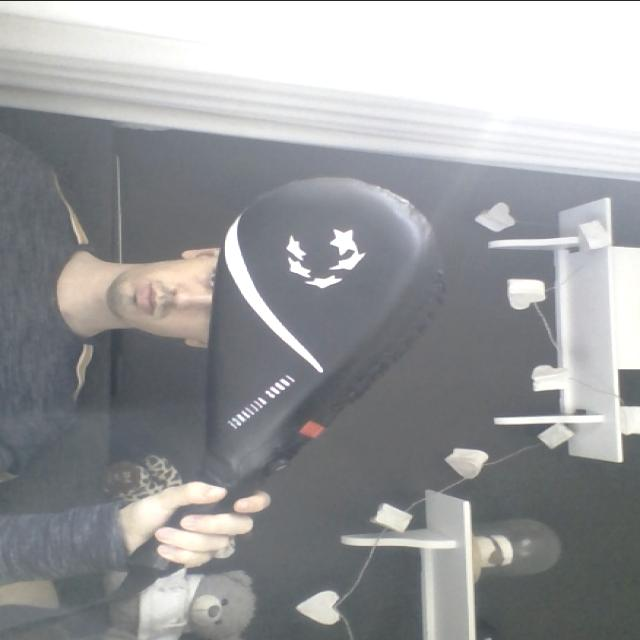paddle: (118, 172, 449, 577)
